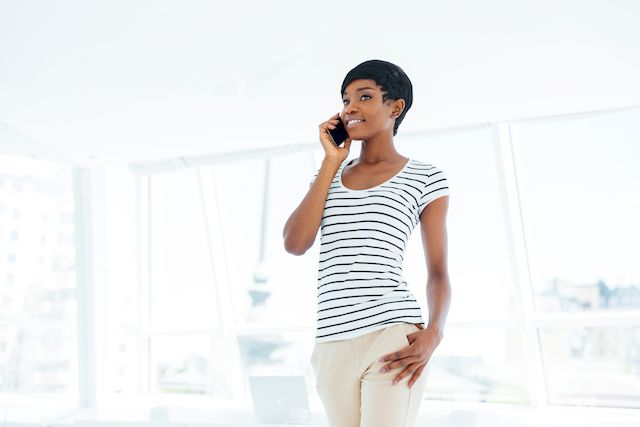phone: (319, 113, 346, 148)
talk: (315, 85, 385, 161)
